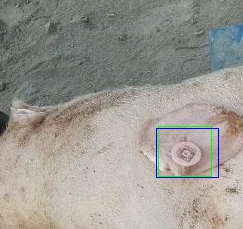text: (158, 126, 211, 176)
